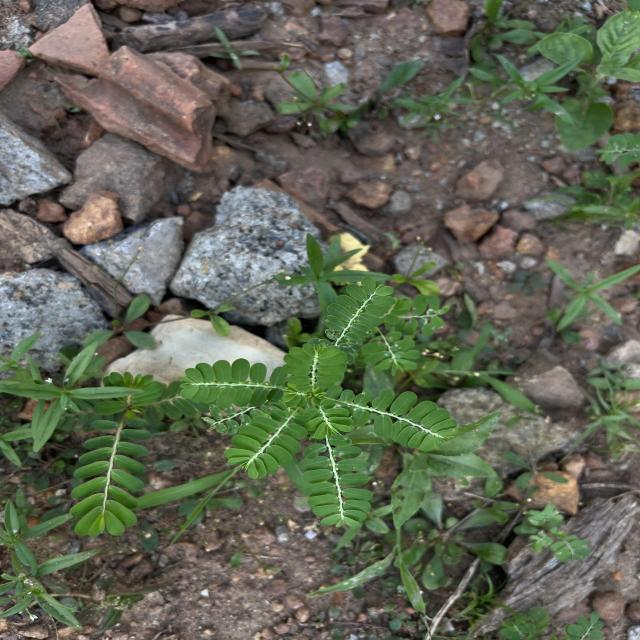Phyllanthus niruri: (70, 420, 152, 538), (344, 385, 462, 452), (302, 432, 374, 531), (223, 408, 308, 482), (318, 272, 398, 344), (178, 355, 284, 409), (284, 338, 349, 396)
